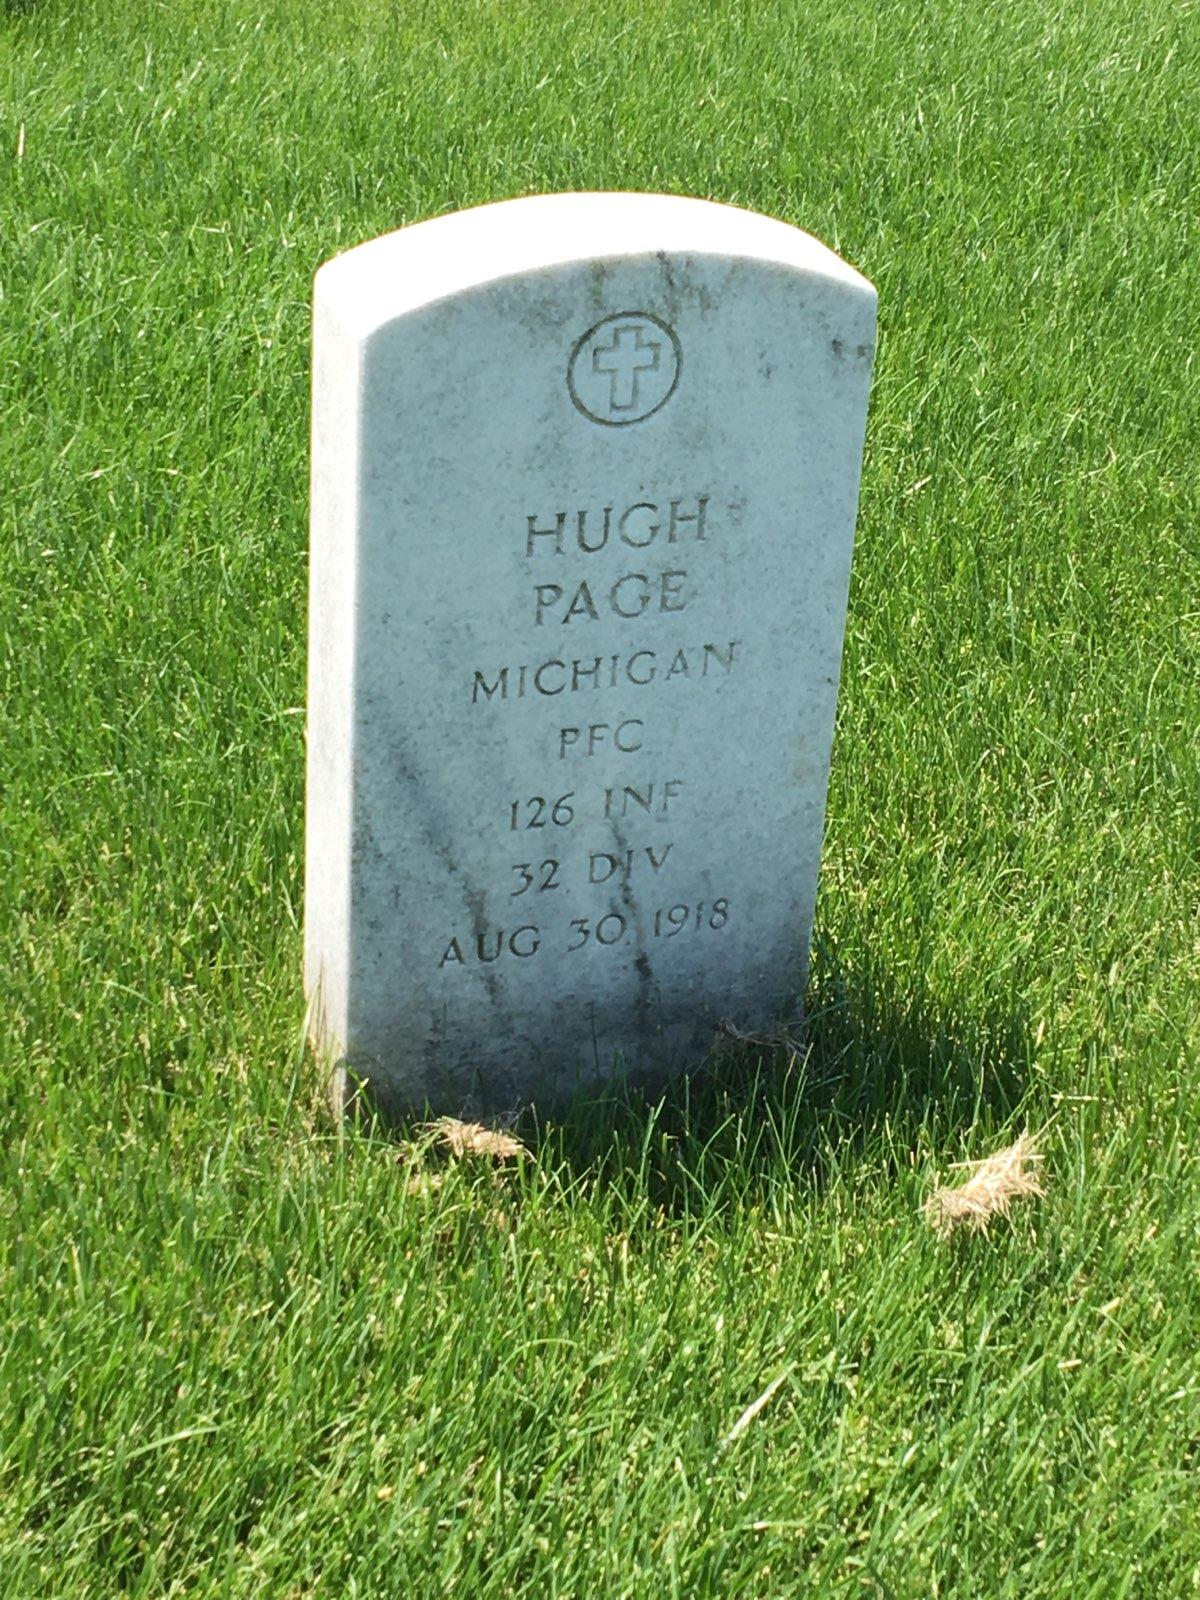military: (300, 190, 879, 1154)
